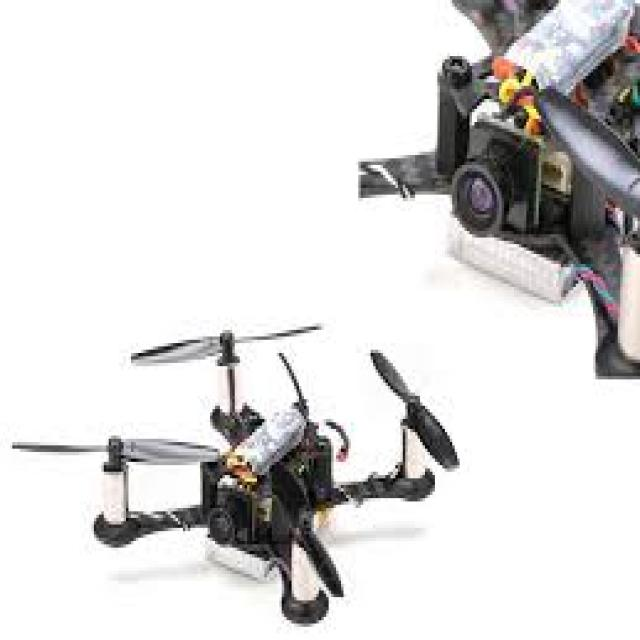drone: (29, 329, 500, 640)
